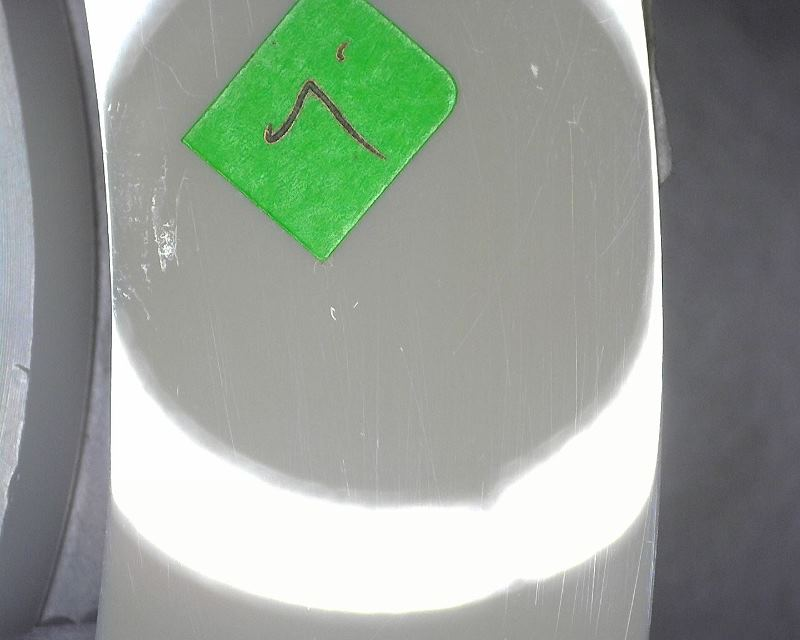scratch: (108, 99, 143, 309), (148, 153, 189, 272), (568, 93, 587, 231), (624, 522, 646, 633), (592, 559, 609, 631), (558, 576, 567, 634), (530, 63, 546, 90), (330, 303, 338, 322), (352, 299, 362, 311)
